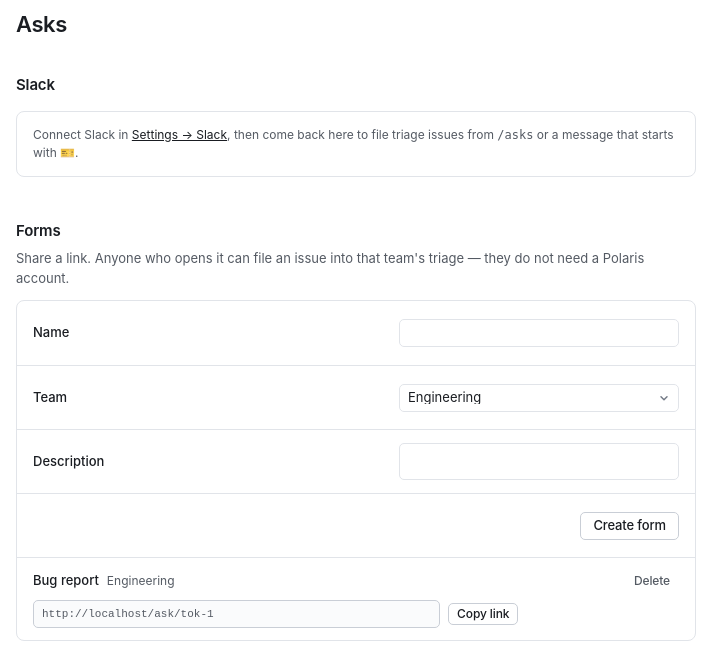
Test: Ask form rows › selects the link when the clipboard refuses, rather than doing nothing
What coordinates should you click on to do the following:
click the button with aria-label "Copy the link for Bug report"
I would click on:
 (483, 614)
Its box is [448, 603, 518, 625].
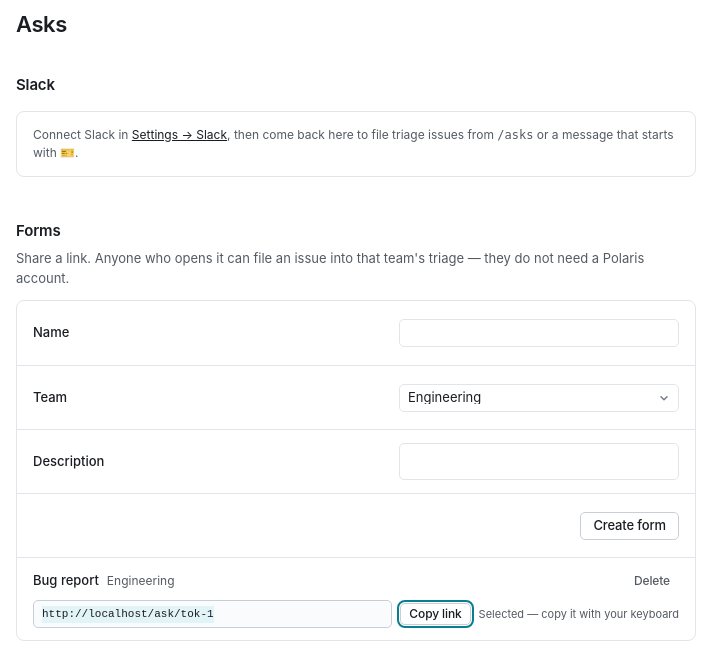
Expected: the message reads "Selected — copy it with your keyboard", [479, 607, 679, 621]
